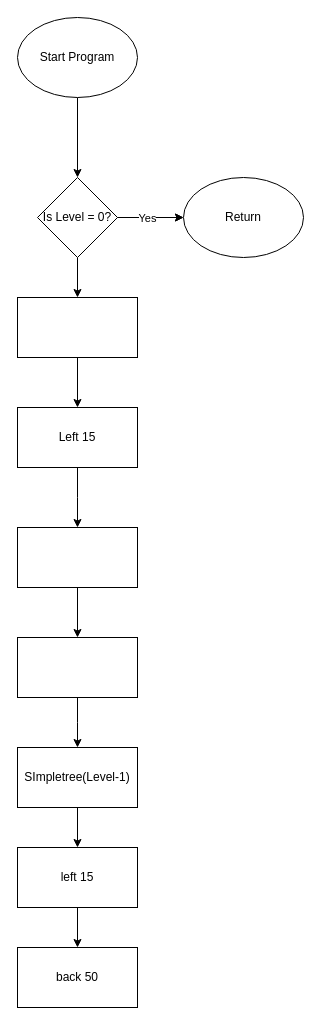
Some shapes in this 321 by 1025 pixel diagram are drawn without their labels. The centre of each missing label's shape, as x and y in pixels:
"Call Simpletree(level-1)" belongs at (77,557).
"Forward 50" belongs at (77,327).
"right 30" belongs at (77,667).
